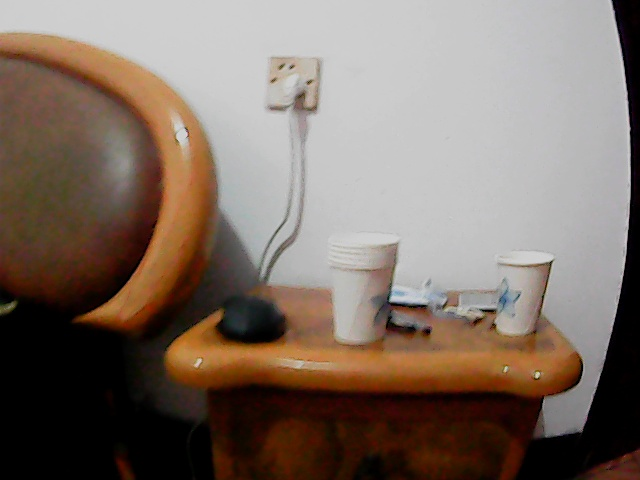cup: (324, 231, 397, 348)
mouse: (220, 293, 287, 344)
